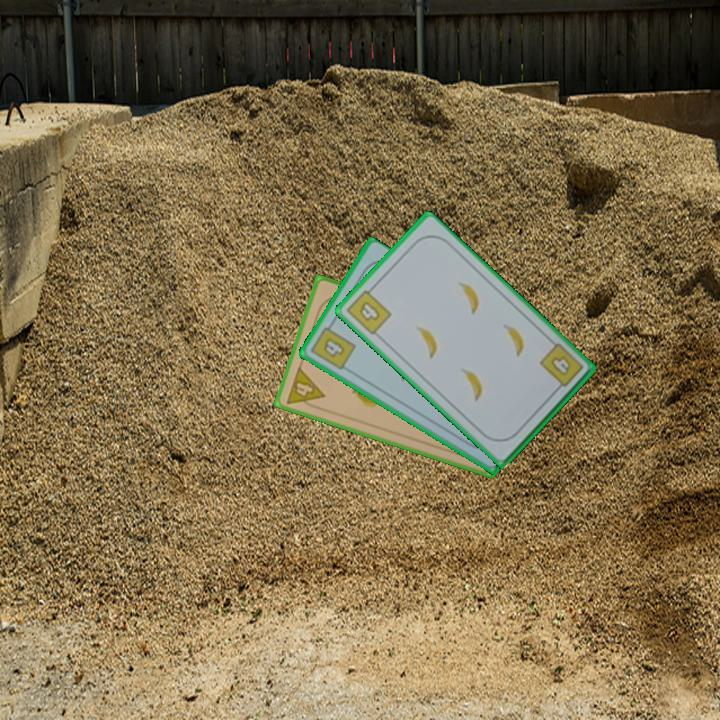4b: (342, 282, 394, 338), (535, 339, 586, 395), (307, 319, 359, 373)
4p: (283, 363, 327, 413)
